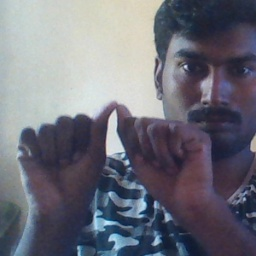A: (42, 101, 187, 200)
